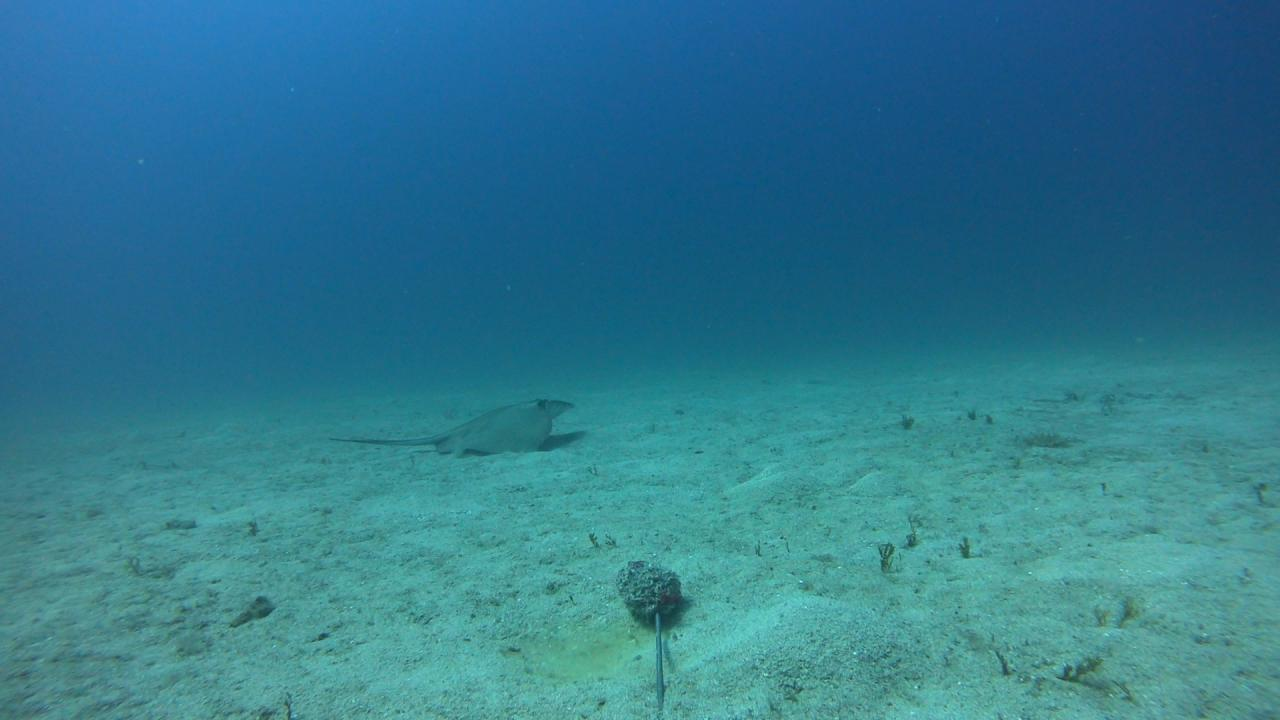dasyatis: (330, 396, 574, 456)
